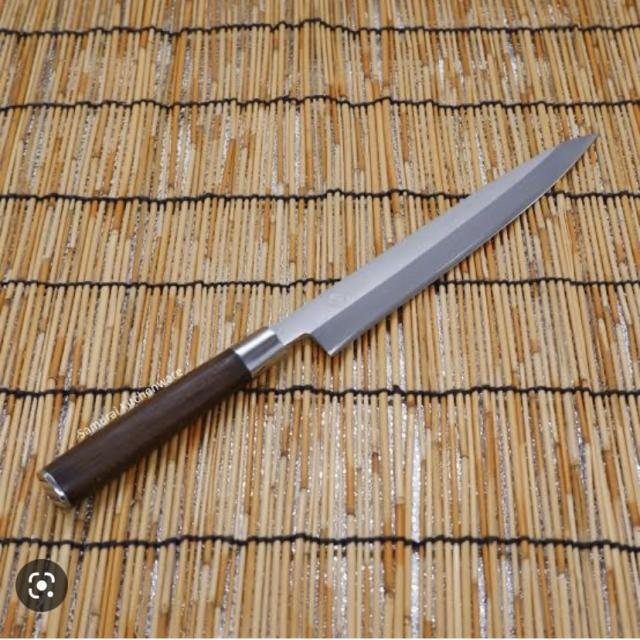Knife: (34, 124, 606, 532)
